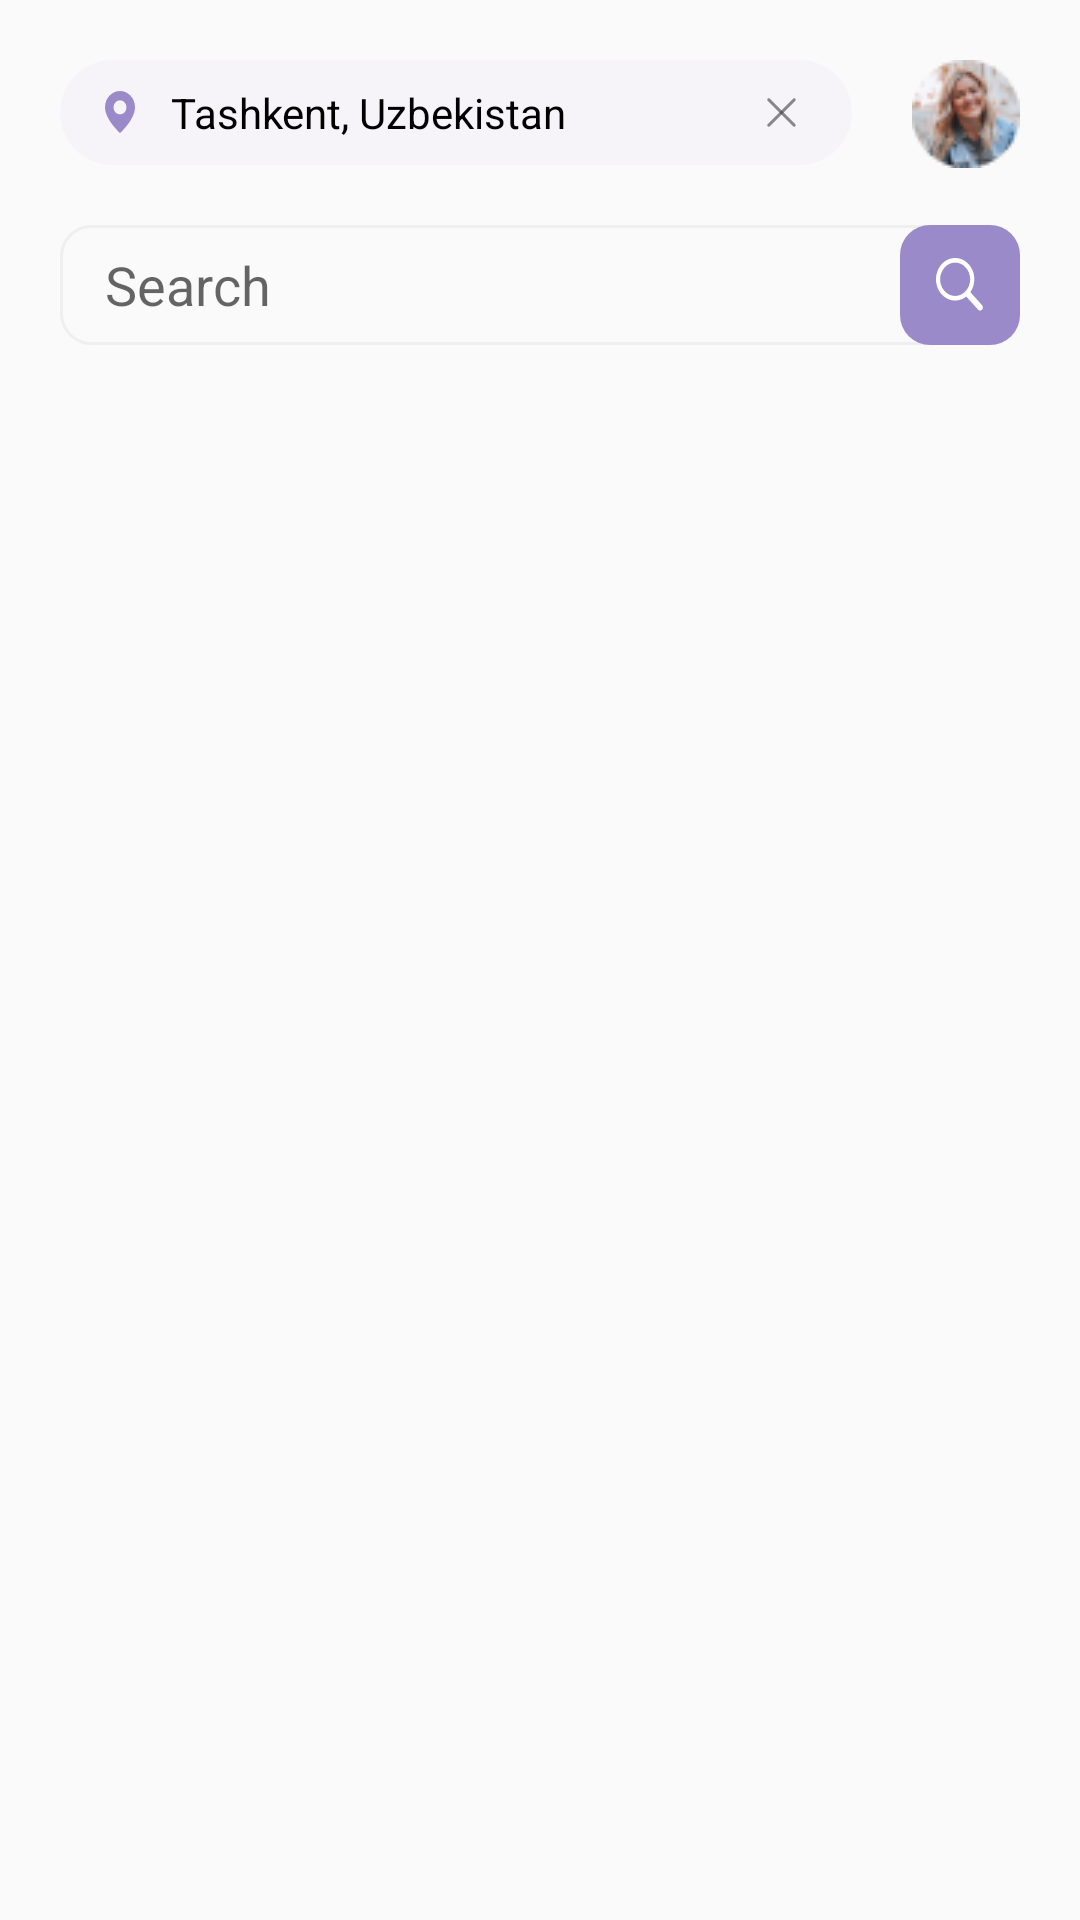

Named icons in this screenshot (1080 × 1920) and their bounding boxes, [left=x1, top=y1, right=x2, bottom=y2]:
User image: [left=912, top=60, right=1020, bottom=168]
